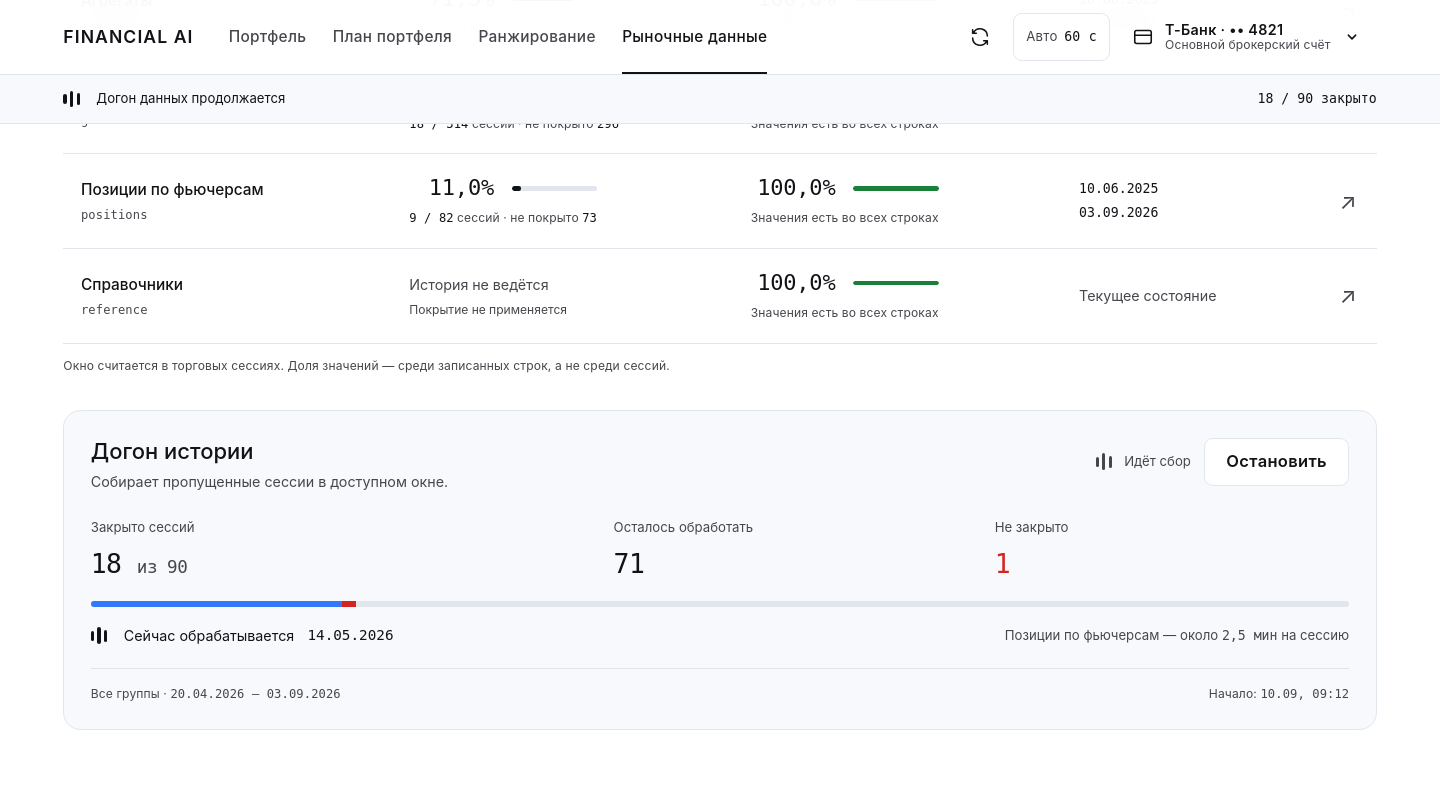
Test: состояния догона › останавливает по одному действию и не переходит в «остановлен» сам
(page scrolled)
expect the text "Идёт сбор" is shown: met, box [1096, 452, 1191, 472]
Note: Одно нажатие, без диалога подтверждения (FR-023).
What coordinates should you click on to do the following:
click the button "Остановить"
I would click on:
 (1277, 462)
Its box is [1204, 438, 1349, 486].
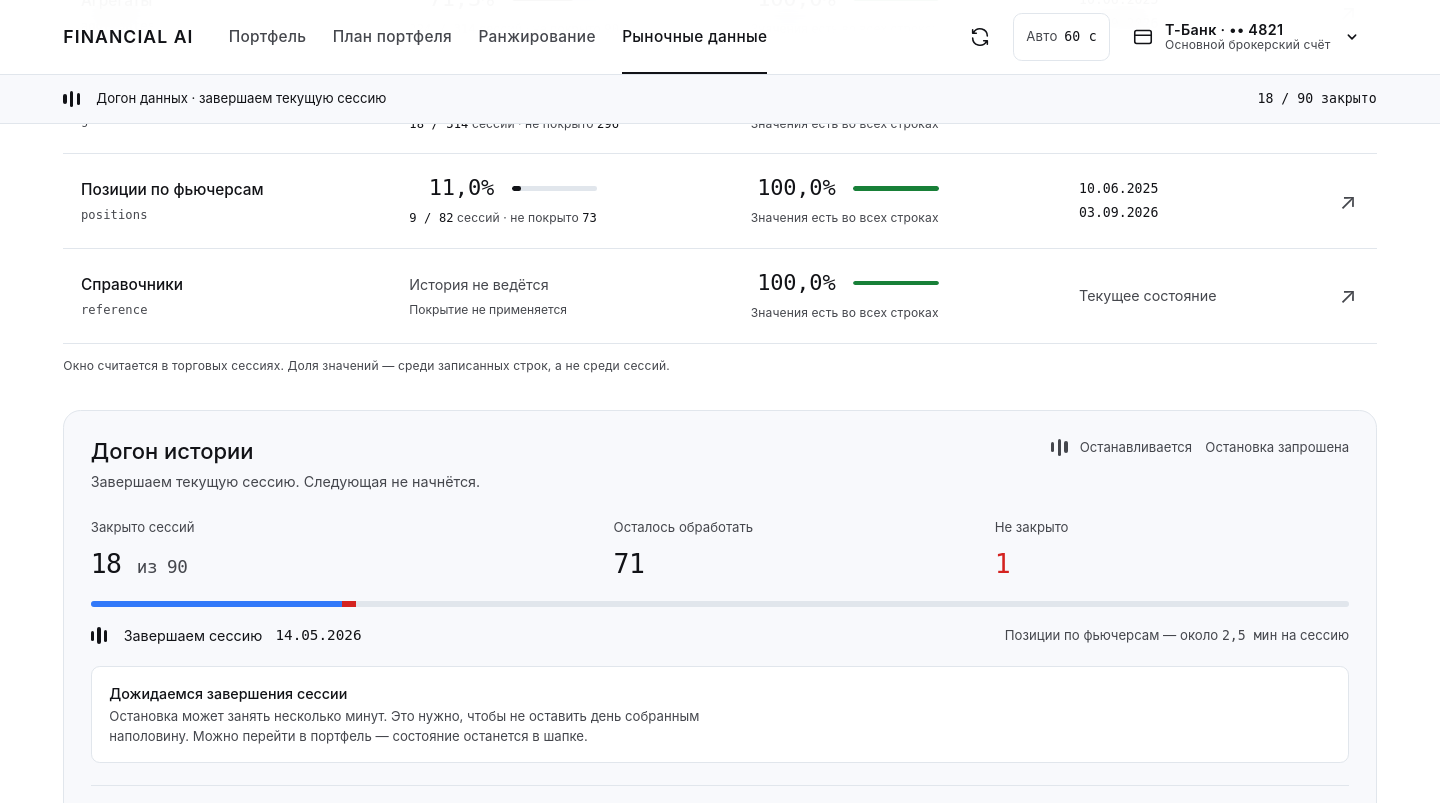
expect the text "Останавливается" is shown: met, box [1051, 438, 1192, 457]
